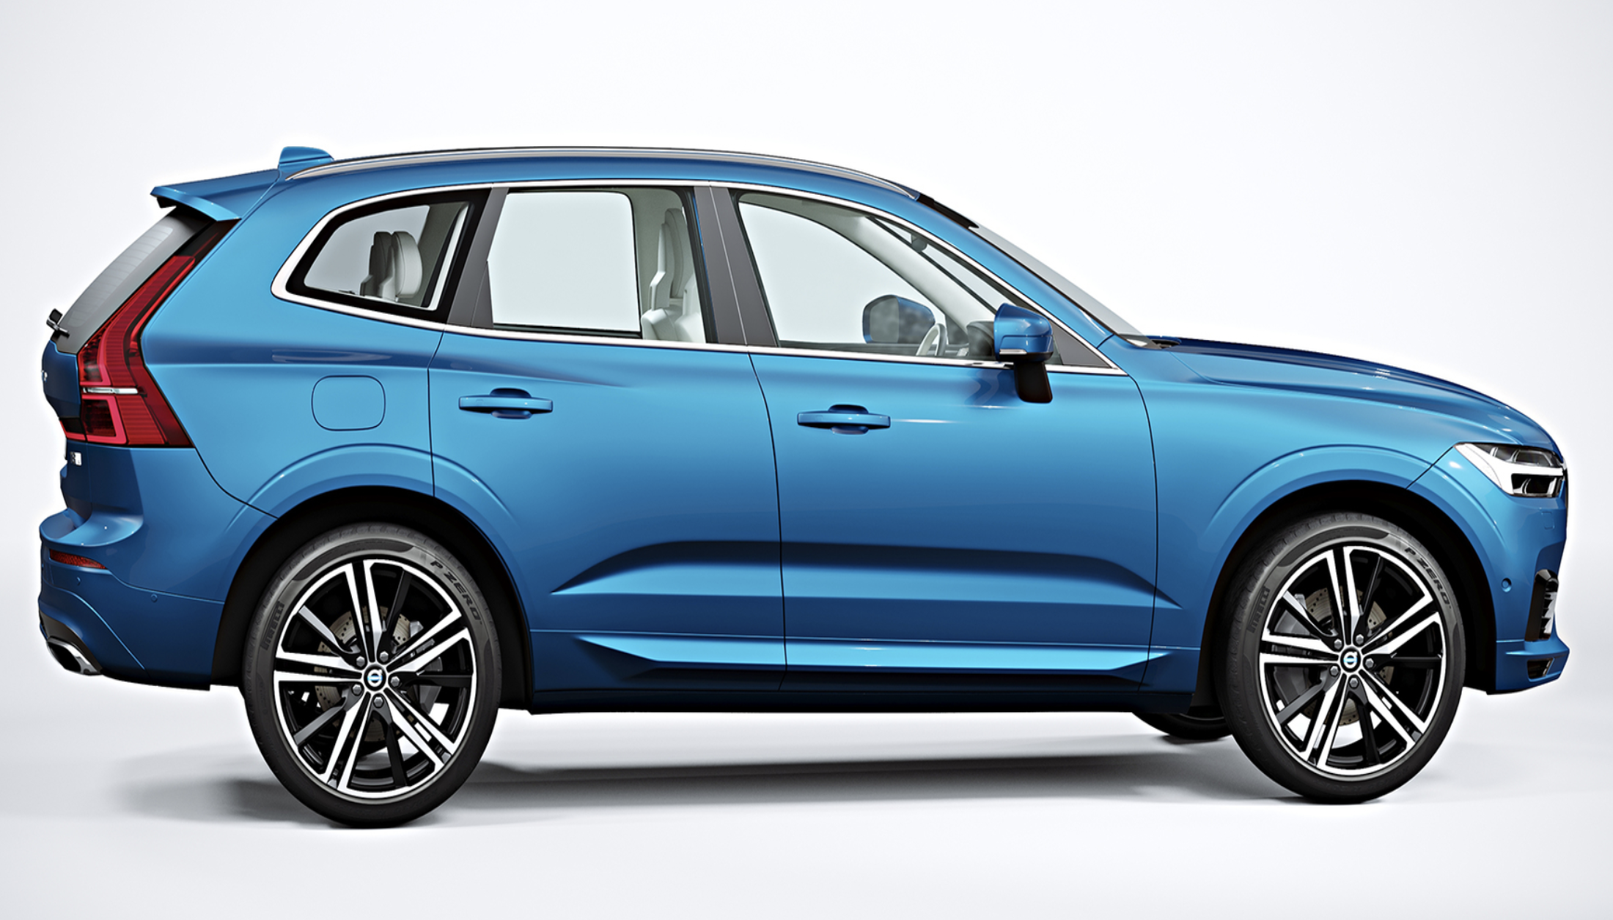hatch: (308, 369, 392, 437)
